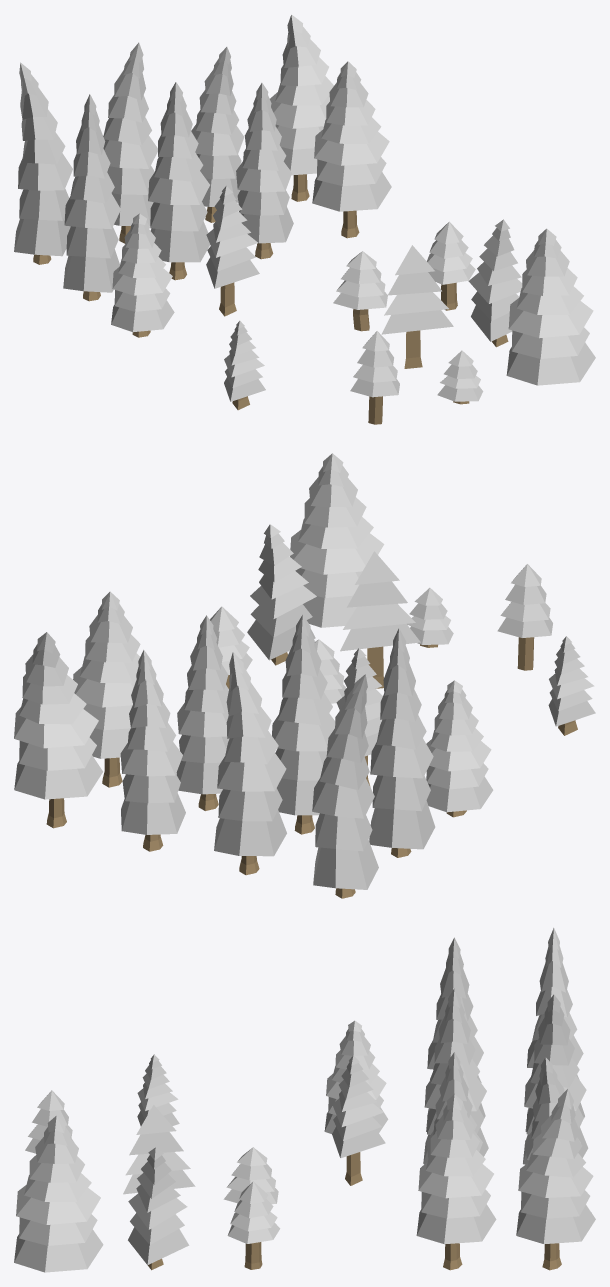
The model's file is pines.glb.
3 views of the same model, one above another, from view 1: azimuth 30°, elevation 25°; view 2: azimuth 150°, elevation 25°; view 3: azimuth 270°, elevation 25° (orthographic). The views are drawn at different scales.
Parts seen in each view (by area): view 1: pine.015, pine.018, pine.017, pine.016, pine.023, pine.021, pine.022, pine.019, pine.000, pine.020, pine.010, pine.011 (+6 smaller); view 2: pine.021, pine.022, pine.016, pine.023, pine.015, pine.020, pine.017, pine.018, pine.019, pine.000, pine.011, pine.010 (+6 smaller); view 3: pine.015, pine.018, pine.021, pine.011, pine.017, pine.001, pine.022, pine.010, pine.007, pine.000, pine.023, pine.016 (+5 smaller).
Part boxes in pixels (x1,y1,x2,y2): pine.015: (506,228,595,385); pine.018: (312,61,391,238); pine.017: (148,82,210,280); pine.016: (63,94,120,301); pine.023: (14,62,72,264); pine.021: (270,14,333,201); pine.022: (103,42,157,243); pine.019: (236,83,293,259); pine.000: (111,213,174,337); pine.020: (191,47,244,222); pine.010: (381,245,453,368); pine.011: (468,219,522,347); pine.021: (14,632,102,828); pine.022: (214,652,286,875); pine.016: (369,628,435,857); pine.023: (312,674,378,898); pine.015: (290,453,384,627); pine.020: (120,650,185,851); pine.017: (272,614,335,834); pine.018: (73,591,140,787); pine.019: (176,615,229,810); pine.000: (426,680,493,817); pine.011: (247,524,316,665); pine.010: (340,551,420,688); pine.015: (14,1115,103,1272); pine.018: (416,1094,496,1270); pine.021: (516,1089,595,1270); pine.011: (128,1147,189,1270); pine.017: (423,988,488,1164); pine.001: (332,1055,385,1185); pine.022: (523,994,588,1164); pine.010: (123,1105,195,1194); pine.007: (227,1181,280,1269); pine.000: (324,1020,388,1133); pine.023: (525,928,584,1131); pine.016: (426,937,485,1131).
Size of the model in its own units: 7.61 by 4.54 by 11.69.
